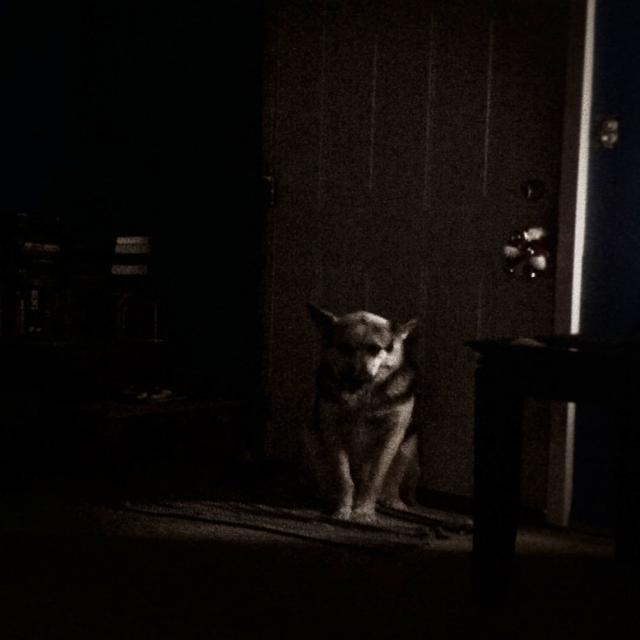Dog: (272, 218, 500, 523)
